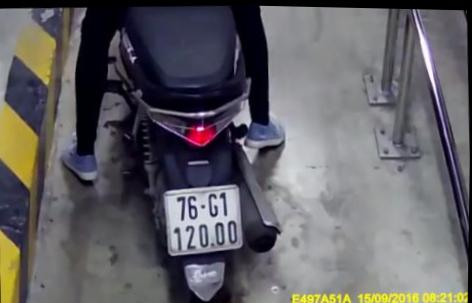LP: (160, 182, 247, 256)
